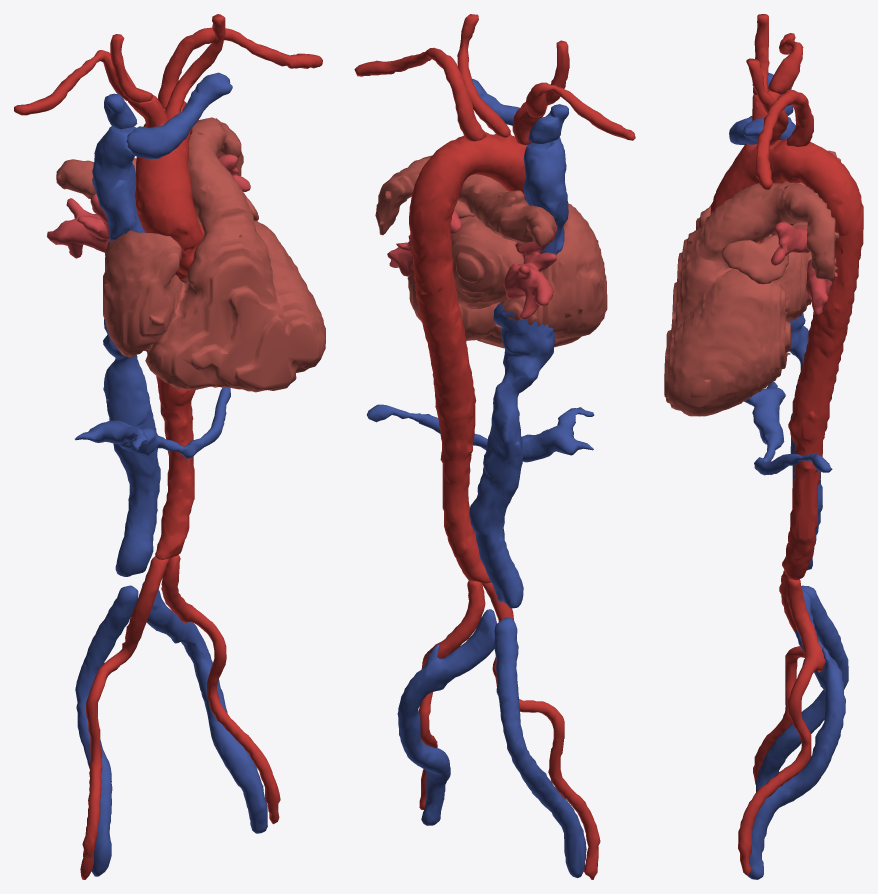
File: tsd_s0327_older_adult_male.cardiovascular.LOD4.glb
3 views of the same model, side by side, from view 1: azimuth 30°, elevation 25°; view 2: azimuth 150°, elevation 25°; view 3: azimuth 270°, elevation 25° (orthographic). The views are drawn at different scales.
Parts seen in each view (by area): view 1: TSD_S0327.OLDER_ADULT.MALE.CARDIOVASCULAR.HEART_ALL_CHAMBERS, TSD_S0327.OLDER_ADULT.MALE.CARDIOVASCULAR.AORTA, TSD_S0327.OLDER_ADULT.MALE.CARDIOVASCULAR.INFERIOR_VENA_CAVA, TSD_S0327.OLDER_ADULT.MALE.CARDIOVASCULAR.ILIAC_VEIN.L, TSD_S0327.OLDER_ADULT.MALE.CARDIOVASCULAR.ILIAC_VEIN.R, TSD_S0327.OLDER_ADULT.MALE.CARDIOVASCULAR.ILIAC_ARTERY.R, TSD_S0327.OLDER_ADULT.MALE.CARDIOVASCULAR.SUBCLAVIAN_ARTERY. (×2), TSD_S0327.OLDER_ADULT.MALE.CARDIOVASCULAR.ILIAC_ARTERY.L, TSD_S0327.OLDER_ADULT.MALE.CARDIOVASCULAR.BRACHIOCEPHALIC_VE (×2), TSD_S0327.OLDER_ADULT.MALE.CARDIOVASCULAR.SUPERIOR_VENA_CAVA, TSD_S0327.OLDER_ADULT.MALE.CARDIOVASCULAR.PORTAL_VEIN_AND_SP, TSD_S0327.OLDER_ADULT.MALE.CARDIOVASCULAR.PULMONARY_VEINS_ON (+2 smaller); view 2: TSD_S0327.OLDER_ADULT.MALE.CARDIOVASCULAR.AORTA, TSD_S0327.OLDER_ADULT.MALE.CARDIOVASCULAR.HEART_ALL_CHAMBERS, TSD_S0327.OLDER_ADULT.MALE.CARDIOVASCULAR.INFERIOR_VENA_CAVA, TSD_S0327.OLDER_ADULT.MALE.CARDIOVASCULAR.ILIAC_VEIN.L, TSD_S0327.OLDER_ADULT.MALE.CARDIOVASCULAR.ILIAC_VEIN.R, TSD_S0327.OLDER_ADULT.MALE.CARDIOVASCULAR.SUBCLAVIAN_ARTERY. (×2), TSD_S0327.OLDER_ADULT.MALE.CARDIOVASCULAR.PULMONARY_VEINS_ON, TSD_S0327.OLDER_ADULT.MALE.CARDIOVASCULAR.SUPERIOR_VENA_CAVA, TSD_S0327.OLDER_ADULT.MALE.CARDIOVASCULAR.ILIAC_ARTERY.R, TSD_S0327.OLDER_ADULT.MALE.CARDIOVASCULAR.PORTAL_VEIN_AND_SP, TSD_S0327.OLDER_ADULT.MALE.CARDIOVASCULAR.COMMON_CAROTID_ART (×2), TSD_S0327.OLDER_ADULT.MALE.CARDIOVASCULAR.ILIAC_ARTERY.L (+2 smaller); view 3: TSD_S0327.OLDER_ADULT.MALE.CARDIOVASCULAR.HEART_ALL_CHAMBERS, TSD_S0327.OLDER_ADULT.MALE.CARDIOVASCULAR.AORTA, TSD_S0327.OLDER_ADULT.MALE.CARDIOVASCULAR.ILIAC_VEIN.L, TSD_S0327.OLDER_ADULT.MALE.CARDIOVASCULAR.ILIAC_ARTERY.L, TSD_S0327.OLDER_ADULT.MALE.CARDIOVASCULAR.SUBCLAVIAN_ARTERY. (×2), TSD_S0327.OLDER_ADULT.MALE.CARDIOVASCULAR.ILIAC_VEIN.R, TSD_S0327.OLDER_ADULT.MALE.CARDIOVASCULAR.PORTAL_VEIN_AND_SP, TSD_S0327.OLDER_ADULT.MALE.CARDIOVASCULAR.LEFT_ATRIAL_APPEND, TSD_S0327.OLDER_ADULT.MALE.CARDIOVASCULAR.PULMONARY_VEINS_ON, TSD_S0327.OLDER_ADULT.MALE.CARDIOVASCULAR.COMMON_CAROTID_ART (×2), TSD_S0327.OLDER_ADULT.MALE.CARDIOVASCULAR.ILIAC_ARTERY.R, TSD_S0327.OLDER_ADULT.MALE.CARDIOVASCULAR.INFERIOR_VENA_CAVA (+1 smaller).
Boxes of the visible parts, x1=… form: TSD_S0327.OLDER_ADULT.MALE.CARDIOVASCULAR.HEART_ALL_CHAMBERS: x1=56, y1=117, x2=325, y2=392; TSD_S0327.OLDER_ADULT.MALE.CARDIOVASCULAR.AORTA: x1=134, y1=101, x2=204, y2=559; TSD_S0327.OLDER_ADULT.MALE.CARDIOVASCULAR.INFERIOR_VENA_CAVA: x1=103, y1=319, x2=160, y2=576; TSD_S0327.OLDER_ADULT.MALE.CARDIOVASCULAR.ILIAC_VEIN.L: x1=139, y1=582, x2=267, y2=833; TSD_S0327.OLDER_ADULT.MALE.CARDIOVASCULAR.ILIAC_VEIN.R: x1=75, y1=585, x2=138, y2=876; TSD_S0327.OLDER_ADULT.MALE.CARDIOVASCULAR.ILIAC_ARTERY.R: x1=80, y1=556, x2=168, y2=879; TSD_S0327.OLDER_ADULT.MALE.CARDIOVASCULAR.SUBCLAVIAN_ARTERY. (×2): x1=14, y1=27, x2=322, y2=115; TSD_S0327.OLDER_ADULT.MALE.CARDIOVASCULAR.ILIAC_ARTERY.L: x1=161, y1=554, x2=280, y2=824; TSD_S0327.OLDER_ADULT.MALE.CARDIOVASCULAR.BRACHIOCEPHALIC_VE (×2): x1=104, y1=72, x2=232, y2=158; TSD_S0327.OLDER_ADULT.MALE.CARDIOVASCULAR.SUPERIOR_VENA_CAVA: x1=92, y1=126, x2=145, y2=241; TSD_S0327.OLDER_ADULT.MALE.CARDIOVASCULAR.PORTAL_VEIN_AND_SP: x1=75, y1=387, x2=230, y2=458; TSD_S0327.OLDER_ADULT.MALE.CARDIOVASCULAR.PULMONARY_VEINS_ON: x1=47, y1=154, x2=250, y2=258; TSD_S0327.OLDER_ADULT.MALE.CARDIOVASCULAR.AORTA: x1=409, y1=132, x2=527, y2=583; TSD_S0327.OLDER_ADULT.MALE.CARDIOVASCULAR.HEART_ALL_CHAMBERS: x1=375, y1=155, x2=607, y2=348; TSD_S0327.OLDER_ADULT.MALE.CARDIOVASCULAR.INFERIOR_VENA_CAVA: x1=469, y1=302, x2=554, y2=608; TSD_S0327.OLDER_ADULT.MALE.CARDIOVASCULAR.ILIAC_VEIN.L: x1=397, y1=609, x2=496, y2=825; TSD_S0327.OLDER_ADULT.MALE.CARDIOVASCULAR.ILIAC_VEIN.R: x1=494, y1=617, x2=586, y2=877; TSD_S0327.OLDER_ADULT.MALE.CARDIOVASCULAR.SUBCLAVIAN_ARTERY. (×2): x1=354, y1=47, x2=635, y2=141; TSD_S0327.OLDER_ADULT.MALE.CARDIOVASCULAR.PULMONARY_VEINS_ON: x1=387, y1=209, x2=557, y2=319; TSD_S0327.OLDER_ADULT.MALE.CARDIOVASCULAR.SUPERIOR_VENA_CAVA: x1=523, y1=139, x2=568, y2=254; TSD_S0327.OLDER_ADULT.MALE.CARDIOVASCULAR.ILIAC_ARTERY.R: x1=482, y1=582, x2=600, y2=879; TSD_S0327.OLDER_ADULT.MALE.CARDIOVASCULAR.PORTAL_VEIN_AND_SP: x1=367, y1=404, x2=594, y2=462; TSD_S0327.OLDER_ADULT.MALE.CARDIOVASCULAR.COMMON_CAROTID_ART (×2): x1=457, y1=14, x2=569, y2=137; TSD_S0327.OLDER_ADULT.MALE.CARDIOVASCULAR.ILIAC_ARTERY.L: x1=418, y1=580, x2=485, y2=809; TSD_S0327.OLDER_ADULT.MALE.CARDIOVASCULAR.HEART_ALL_CHAMBERS: x1=664, y1=150, x2=840, y2=416; TSD_S0327.OLDER_ADULT.MALE.CARDIOVASCULAR.AORTA: x1=710, y1=139, x2=863, y2=580; TSD_S0327.OLDER_ADULT.MALE.CARDIOVASCULAR.ILIAC_VEIN.L: x1=748, y1=591, x2=845, y2=879; TSD_S0327.OLDER_ADULT.MALE.CARDIOVASCULAR.ILIAC_ARTERY.L: x1=738, y1=577, x2=825, y2=875; TSD_S0327.OLDER_ADULT.MALE.CARDIOVASCULAR.SUBCLAVIAN_ARTERY. (×2): x1=755, y1=33, x2=813, y2=189; TSD_S0327.OLDER_ADULT.MALE.CARDIOVASCULAR.ILIAC_VEIN.R: x1=756, y1=585, x2=848, y2=791; TSD_S0327.OLDER_ADULT.MALE.CARDIOVASCULAR.PORTAL_VEIN_AND_SP: x1=743, y1=381, x2=832, y2=475; TSD_S0327.OLDER_ADULT.MALE.CARDIOVASCULAR.LEFT_ATRIAL_APPEND: x1=721, y1=234, x2=788, y2=284; TSD_S0327.OLDER_ADULT.MALE.CARDIOVASCULAR.PULMONARY_VEINS_ON: x1=771, y1=221, x2=837, y2=315; TSD_S0327.OLDER_ADULT.MALE.CARDIOVASCULAR.COMMON_CAROTID_ART (×2): x1=746, y1=14, x2=788, y2=145; TSD_S0327.OLDER_ADULT.MALE.CARDIOVASCULAR.ILIAC_ARTERY.R: x1=753, y1=570, x2=805, y2=784; TSD_S0327.OLDER_ADULT.MALE.CARDIOVASCULAR.INFERIOR_VENA_CAVA: x1=789, y1=313, x2=822, y2=570.
Bounding box in the file's own units: 0.216 × 0.5855 × 0.1307.
